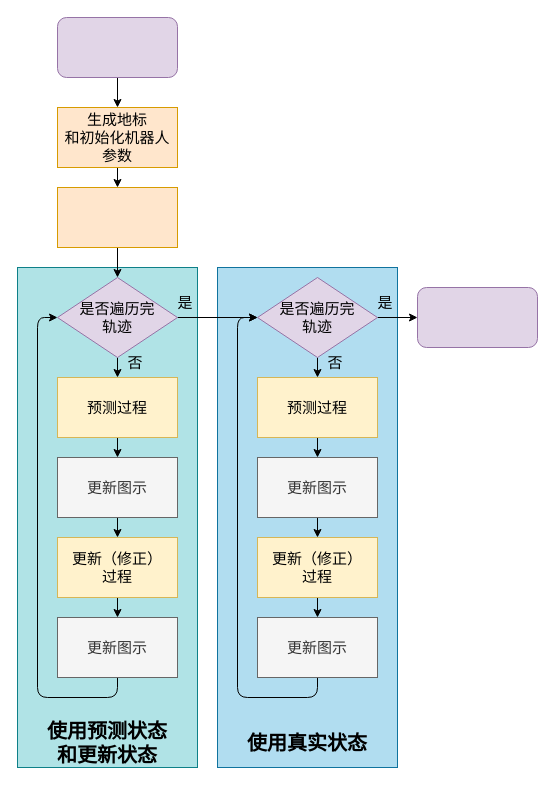
This 555x785 diagram has some shape labels left out. Each missing label, with the centre of its shape:
"开始" belongs at [117,47].
"生成轨迹 （groundtruth）" belongs at [117,217].
"结束" belongs at [477,317].
